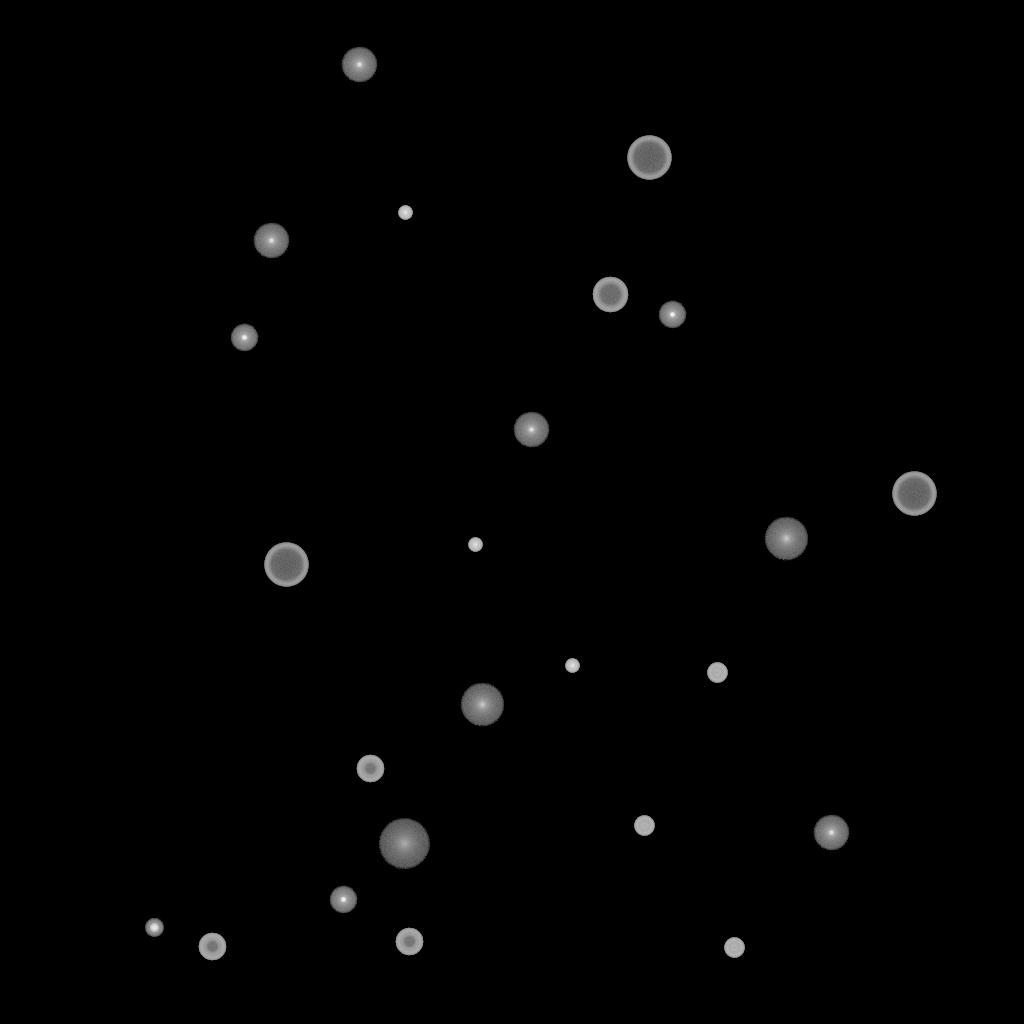depth:-10: (658, 301, 686, 329), (230, 324, 258, 352), (329, 886, 357, 914)
depth:-20: (145, 919, 163, 937)
depth:-30: (398, 206, 412, 220), (468, 538, 482, 552), (565, 659, 579, 673)
depth:-40: (634, 816, 654, 836), (724, 938, 744, 958), (707, 663, 727, 683)
depth:-50: (198, 933, 226, 961), (356, 755, 384, 783), (395, 928, 423, 956)
depth:-60: (592, 277, 628, 313)
depth:-70: (892, 472, 936, 516), (627, 136, 671, 180), (264, 543, 308, 587)
depth:0: (253, 223, 289, 259), (813, 815, 849, 851), (513, 412, 549, 448), (341, 47, 377, 83)
depth:10: (460, 683, 504, 727), (764, 517, 808, 561)
depth:20: (378, 819, 430, 869)
